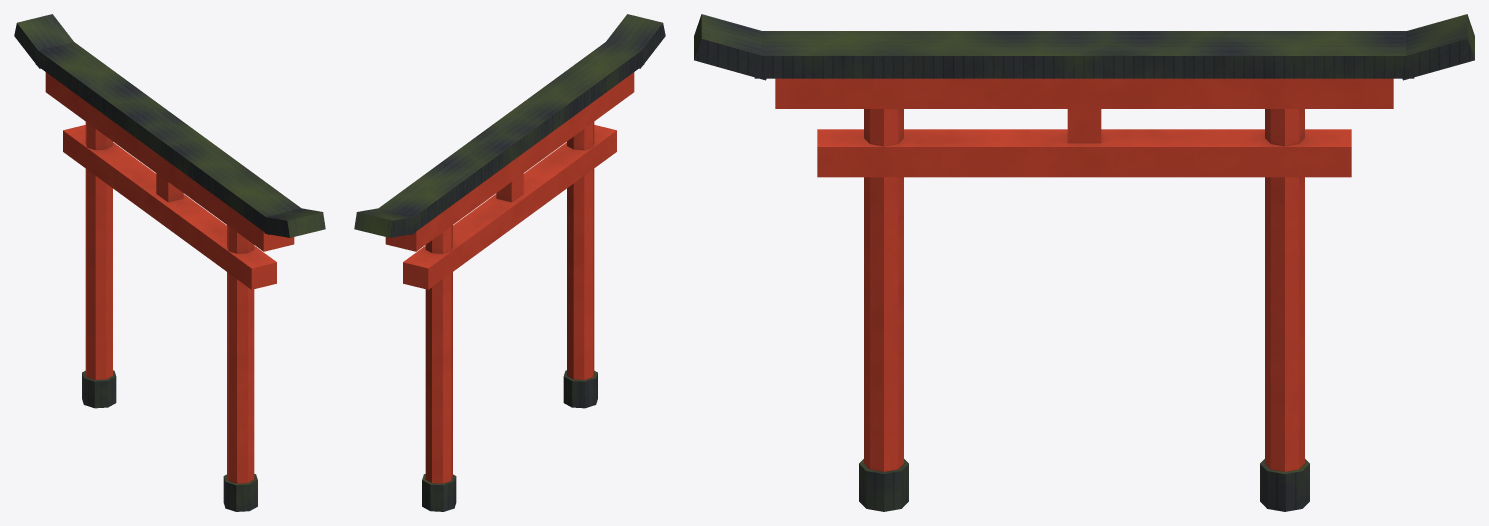
File: torii_stor_tex.glb
3 renders of one model, left to right at view 1: azimuth 30°, elevation 25°; view 2: azimuth 150°, elevation 25°; view 3: azimuth 270°, elevation 25°, orthographic. The views are drawn at different scales.
Visible parts, largest first — view 1: torii_stor; view 2: torii_stor; view 3: torii_stor.
Part boxes in pixels (x1=…): torii_stor: x1=14, y1=14, x2=325, y2=511; torii_stor: x1=354, y1=14, x2=665, y2=511; torii_stor: x1=694, y1=14, x2=1474, y2=511.
Size of the model in its own units: 1.4 by 12.55 by 18.7.
Materials: 2 (2 with a texture image).
